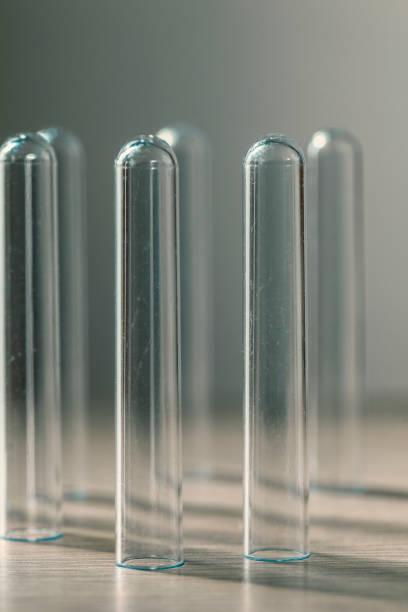Test tube: (100, 123, 185, 601), (241, 134, 310, 594), (6, 132, 73, 559)
